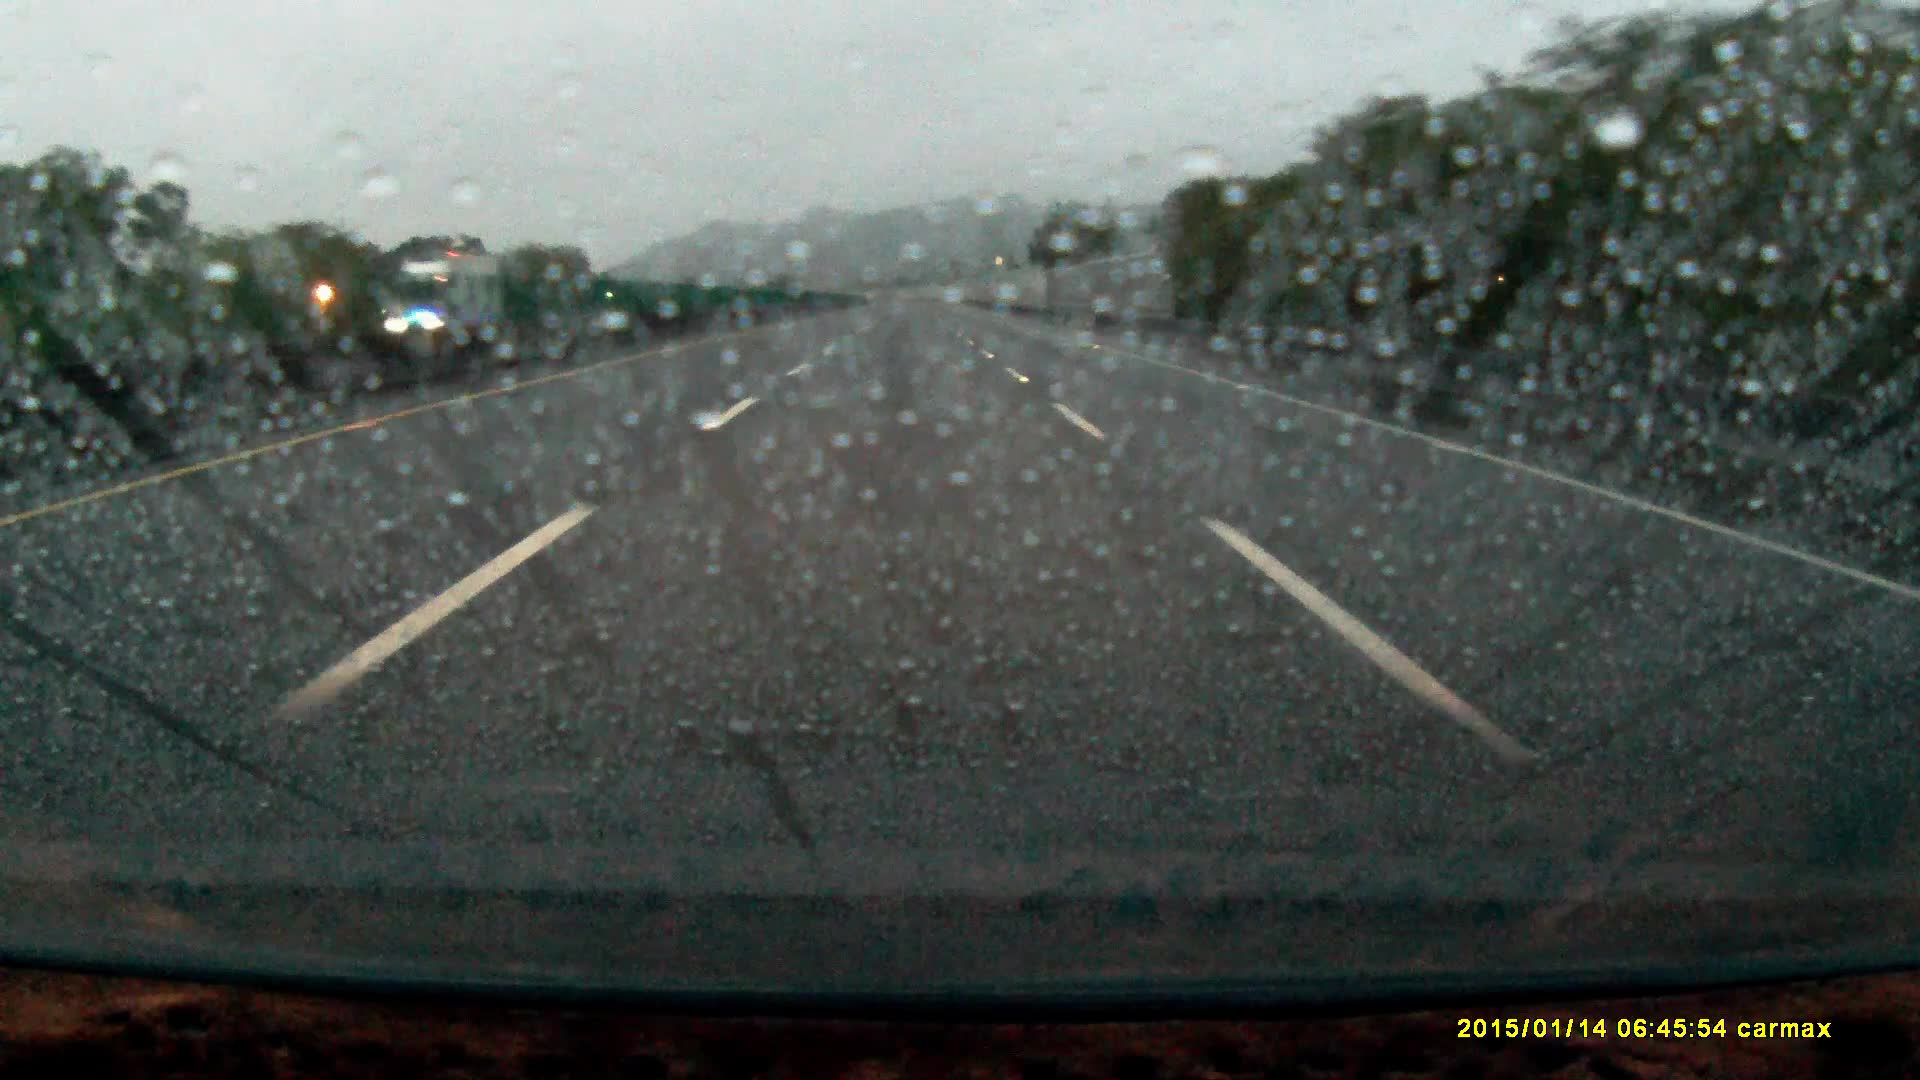vehicle: (382, 253, 502, 345)
